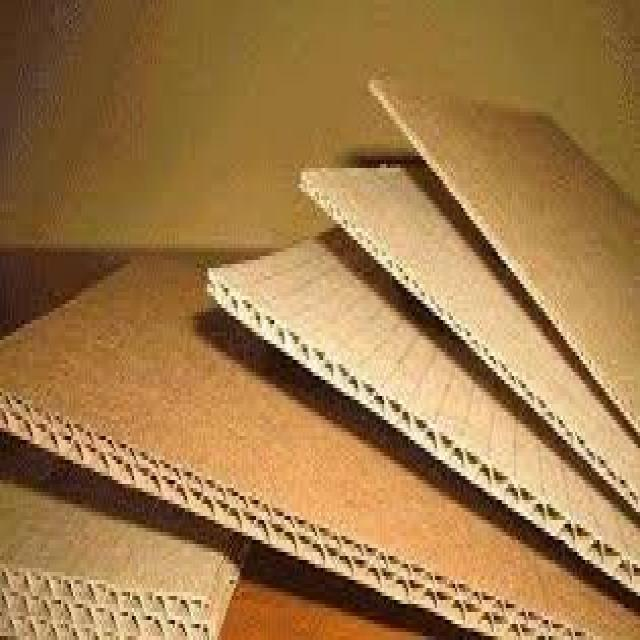Cardboard: (203, 221, 640, 599), (300, 163, 640, 515), (370, 86, 640, 440)
